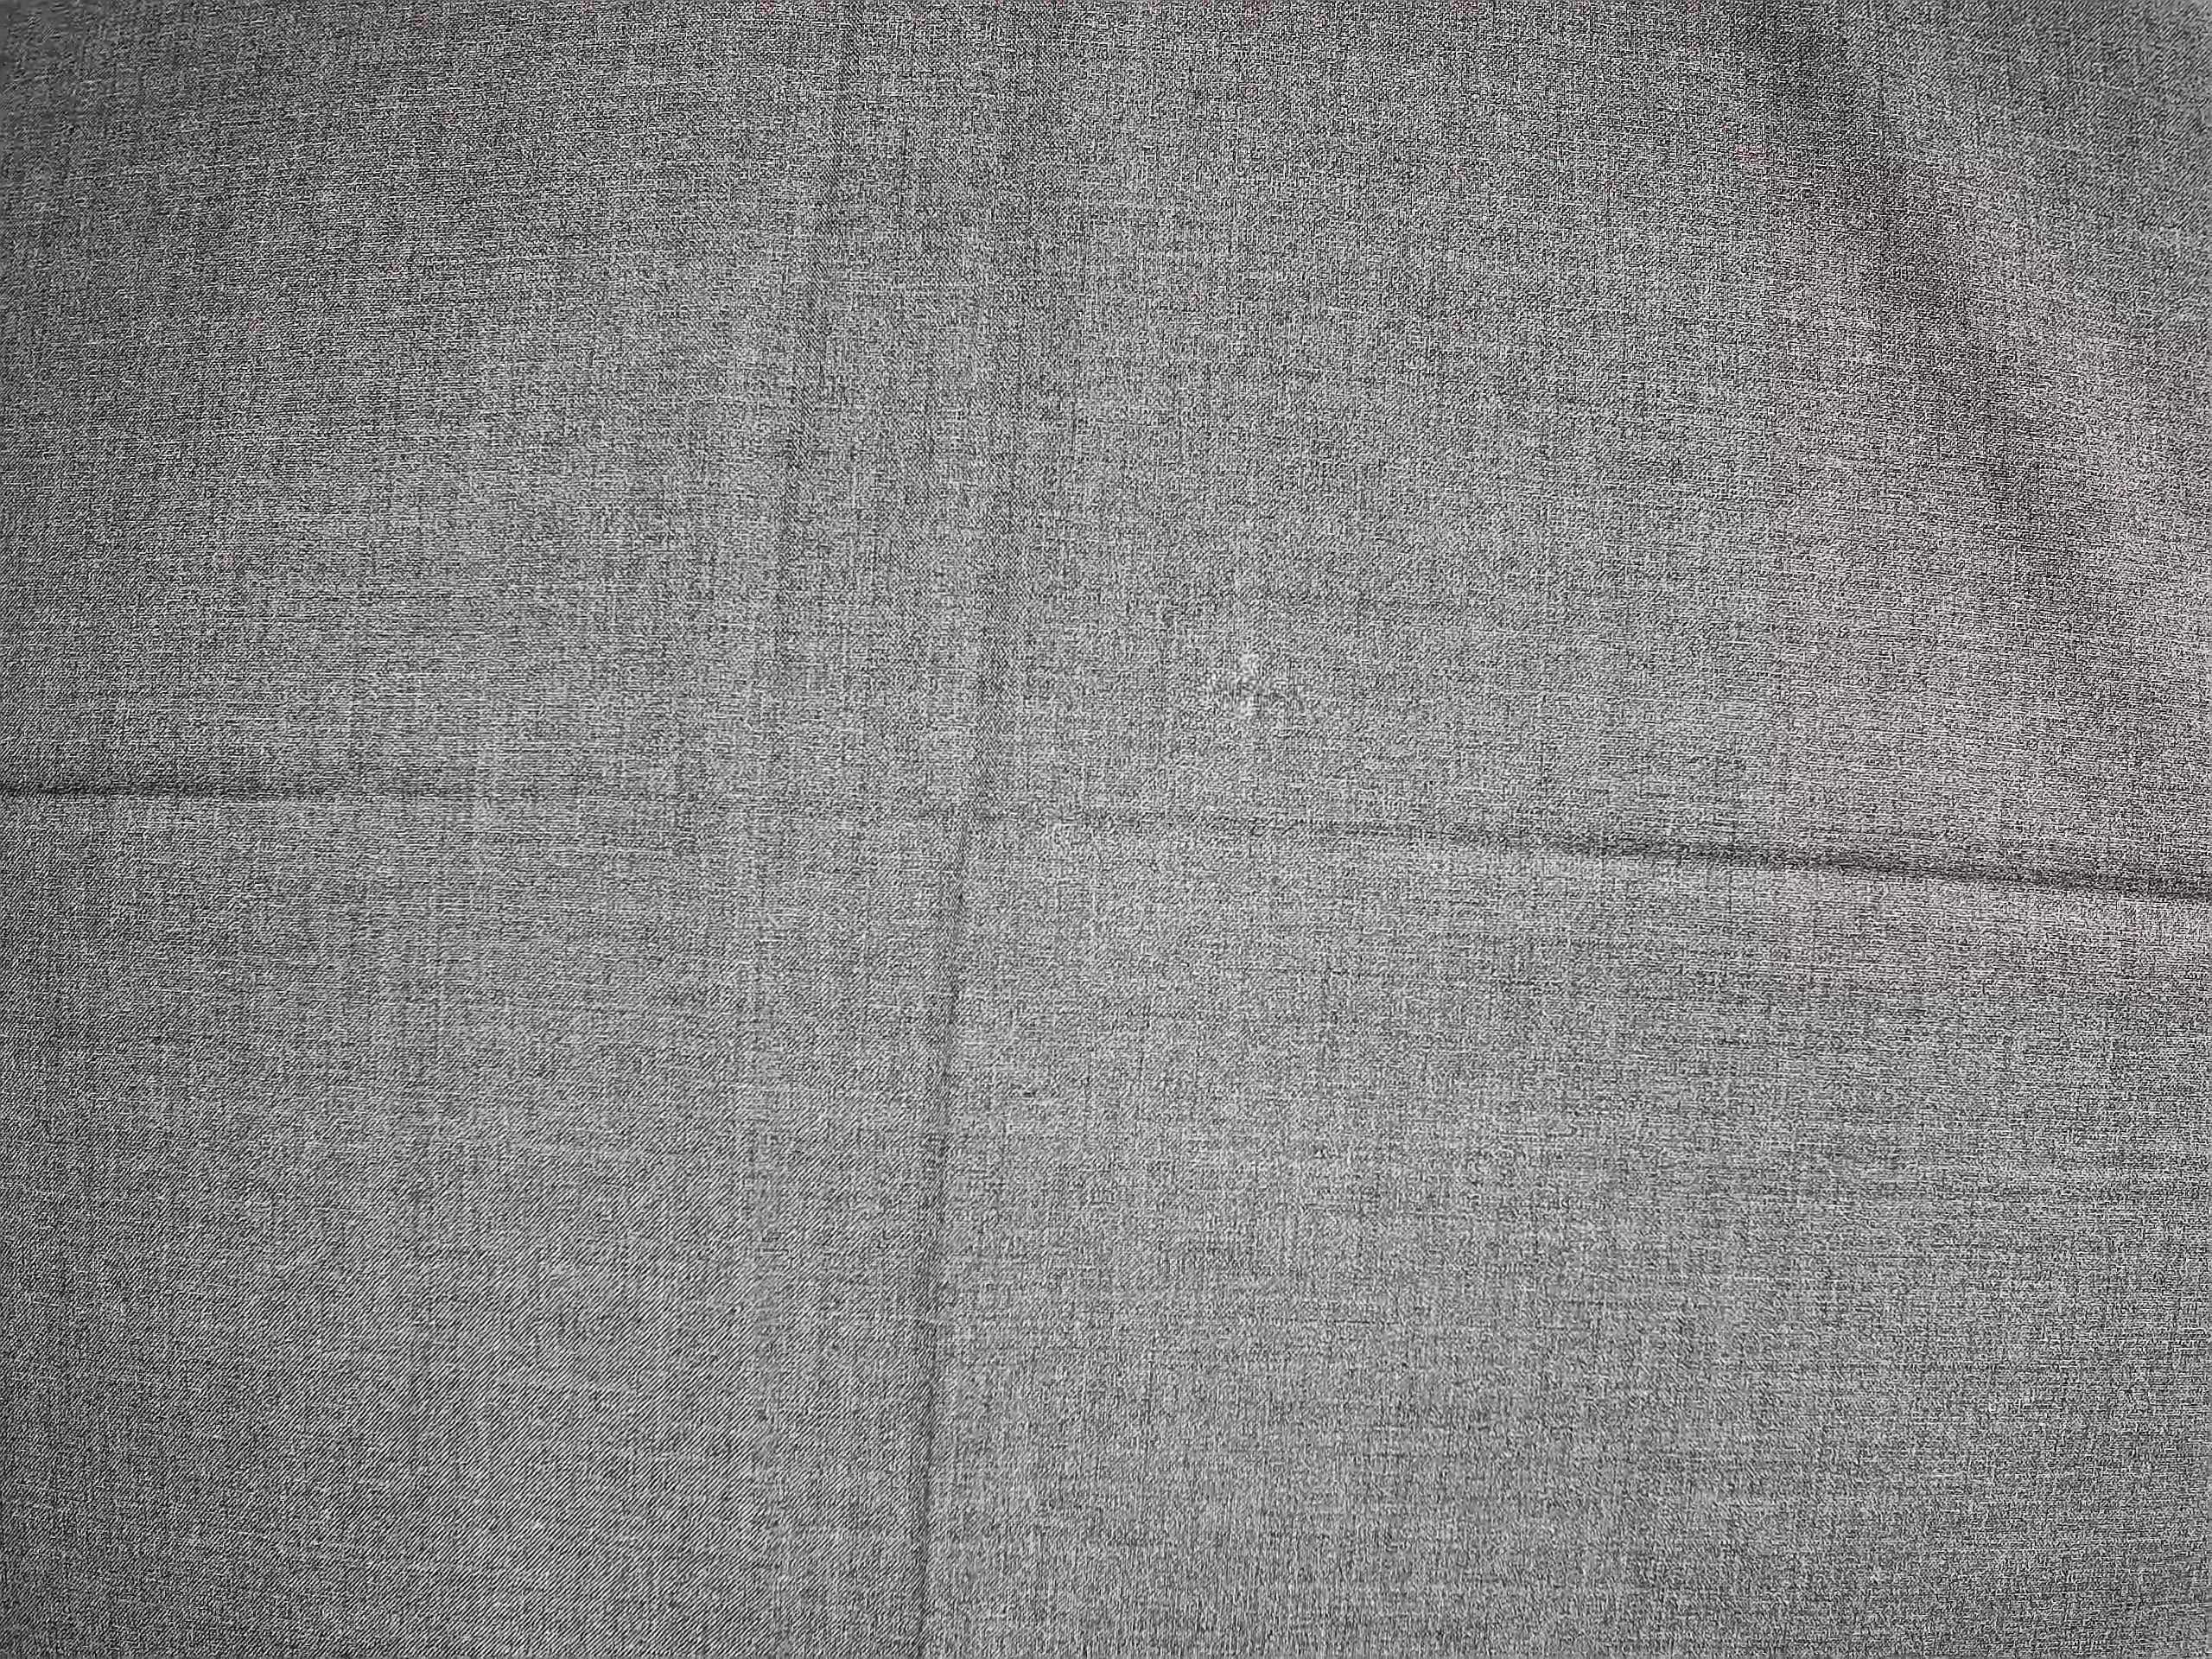brushed-hole: (1197, 638, 1341, 744)
